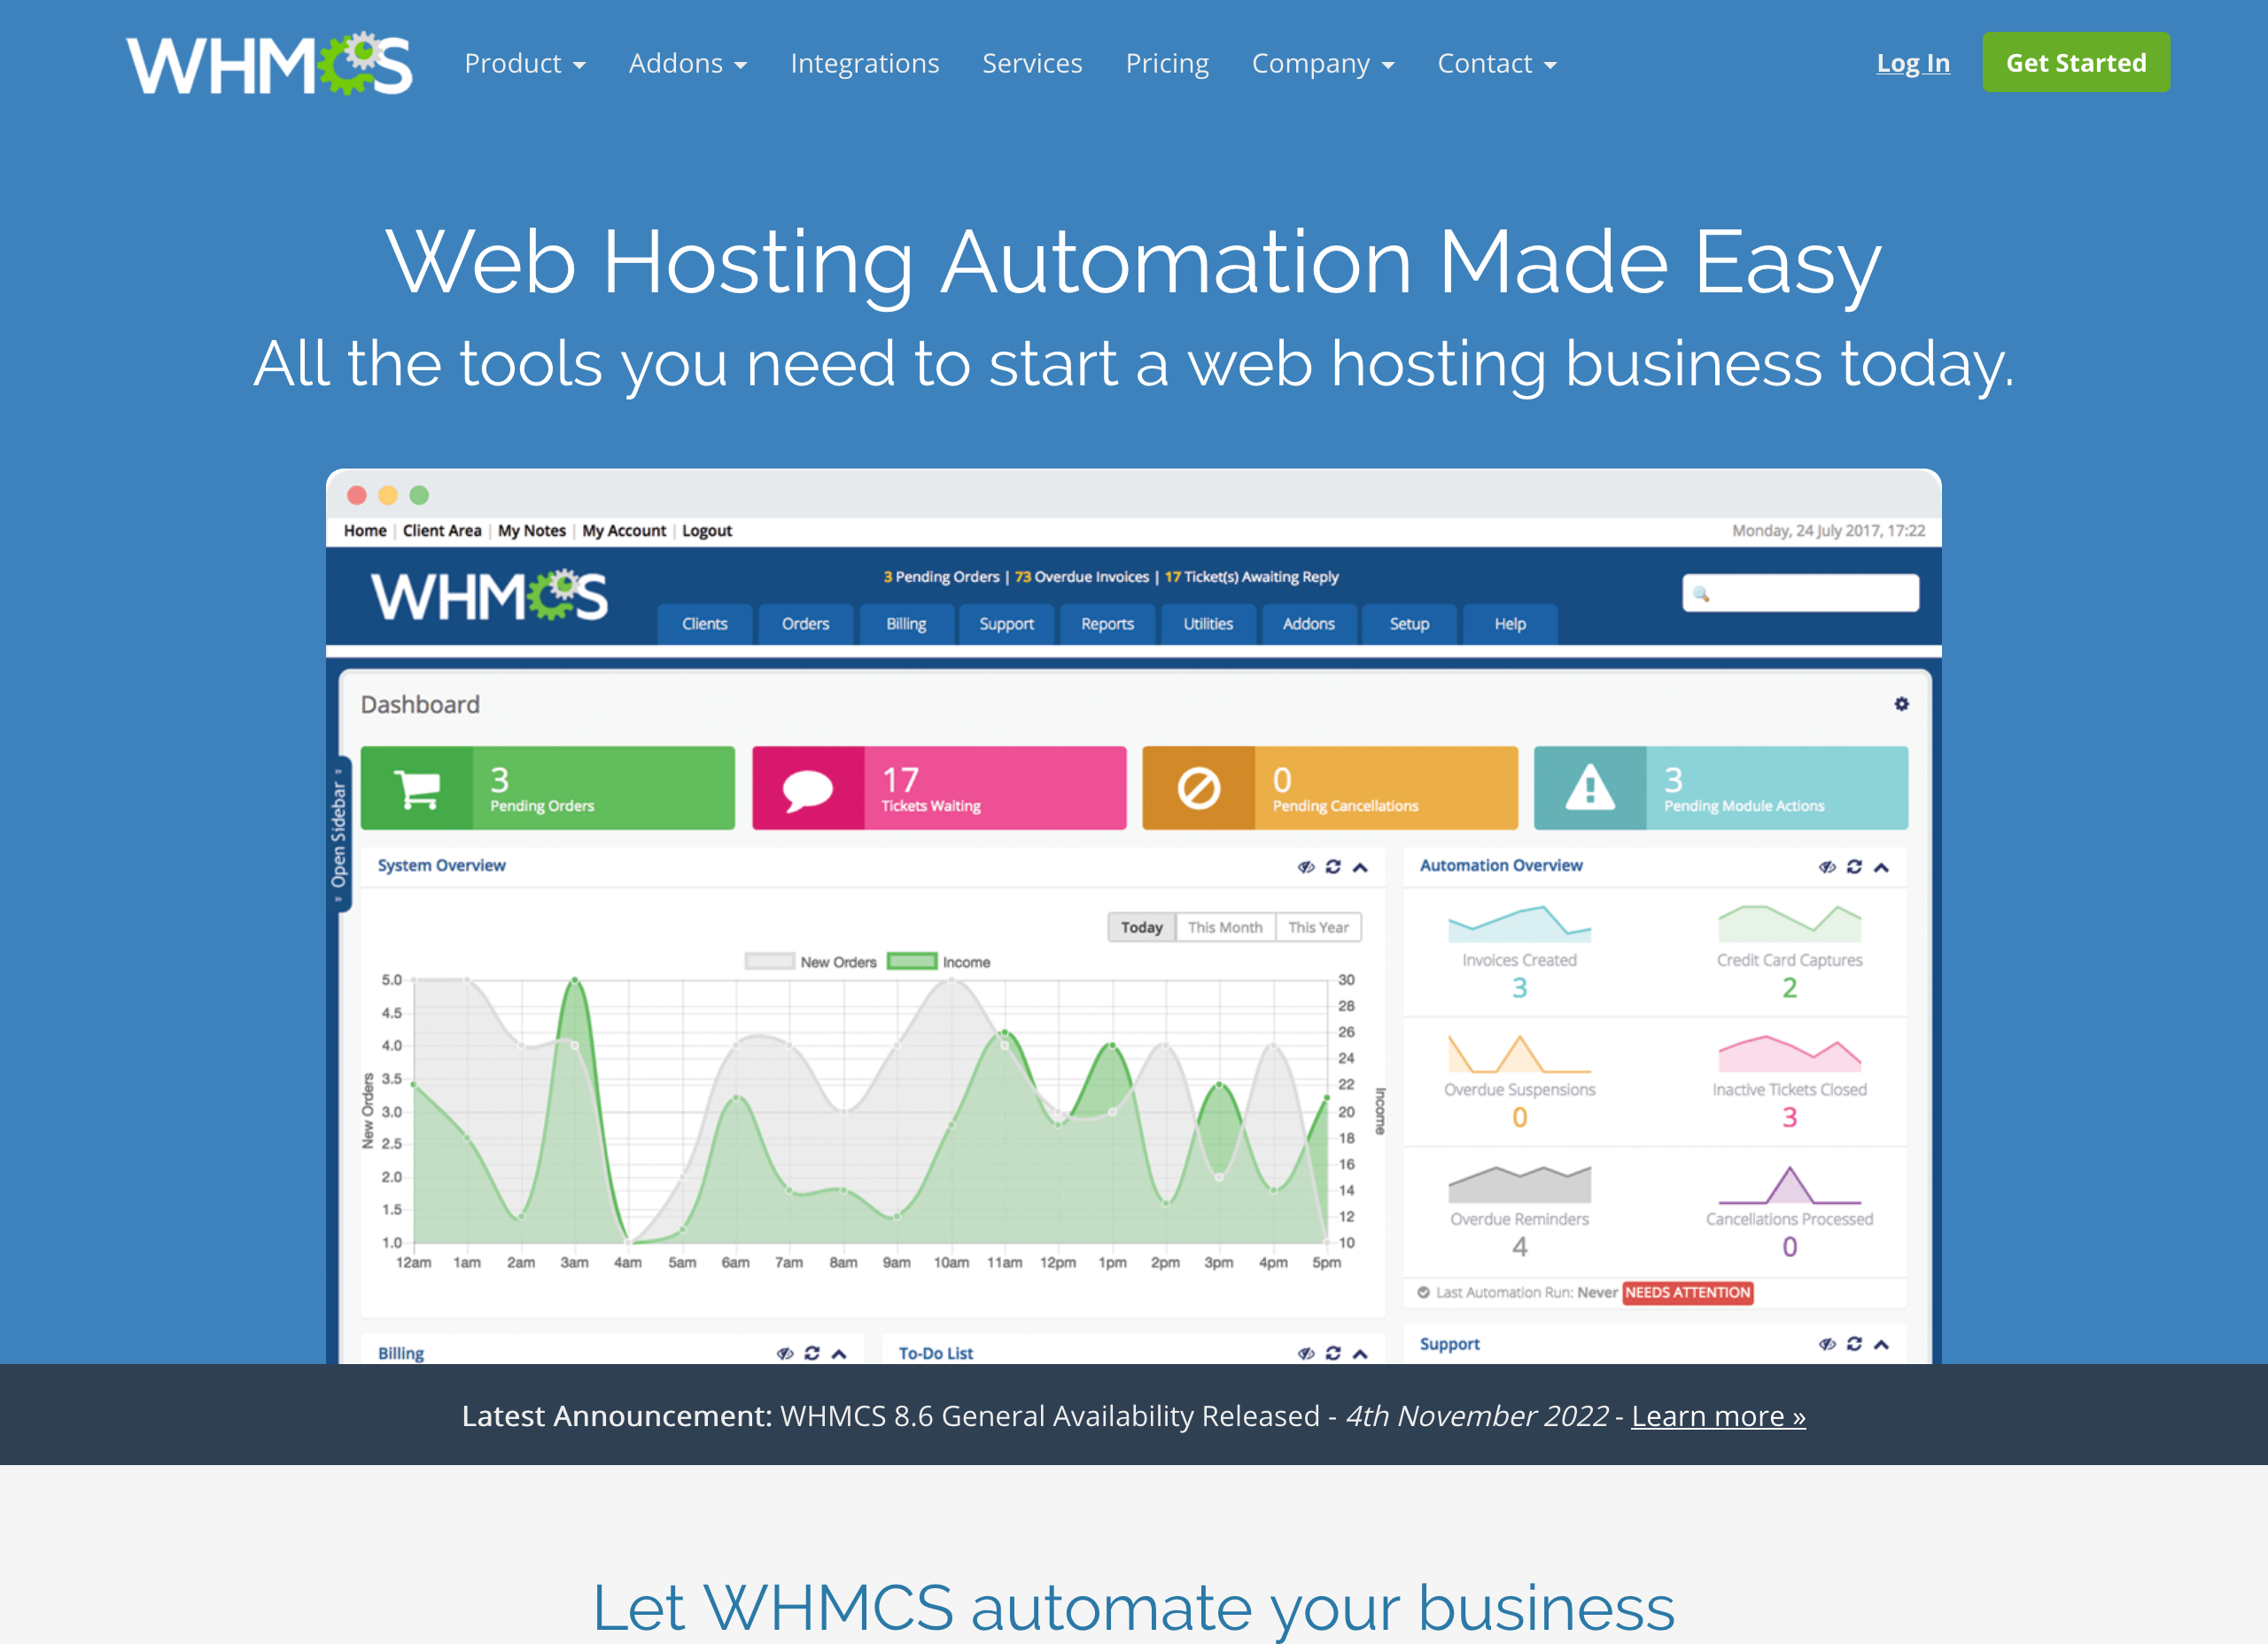Login: (1863, 30, 1963, 99)
